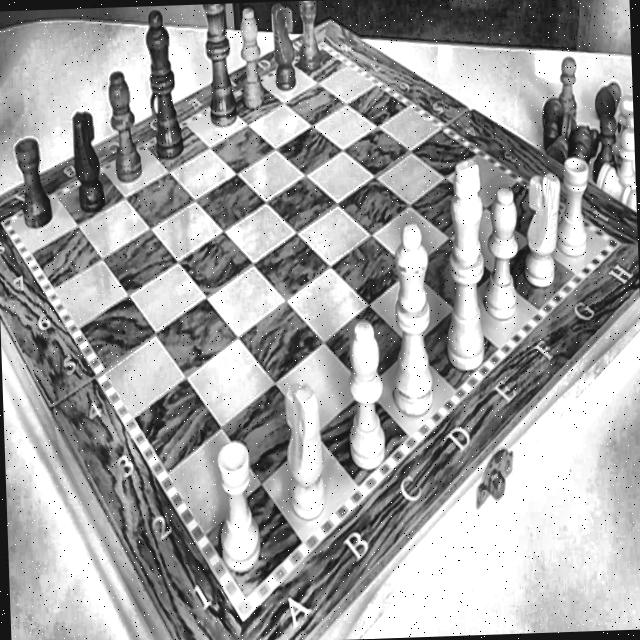black-bishop: (102, 59, 148, 197), (233, 2, 268, 124)
black-king: (196, 3, 238, 144)
black-knight: (64, 110, 104, 216), (266, 0, 301, 96)
black-queen: (142, 5, 185, 183)
black-rook: (8, 128, 61, 264), (294, 0, 329, 74)
white-bishop: (341, 302, 394, 504), (486, 184, 529, 345)
white-king: (444, 137, 494, 400)
white-knight: (282, 370, 333, 542), (525, 163, 564, 300)
white-queen: (386, 210, 448, 456)
white-rook: (204, 431, 272, 576), (560, 156, 598, 268)
